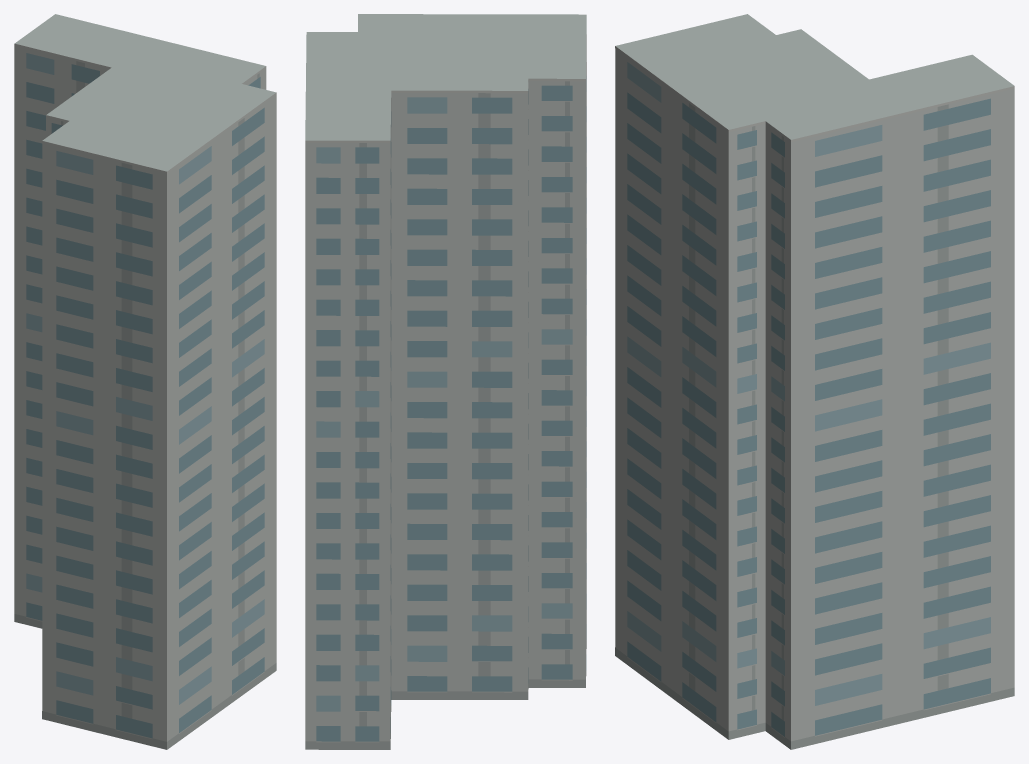
Rendered from residential-15b43ce7-ac7d-4d0b-87e9-8b9ed7bcc822.glb.
3 views of the same model, side by side, from view 1: azimuth 30°, elevation 25°; view 2: azimuth 150°, elevation 25°; view 3: azimuth 270°, elevation 25° (orthographic). The views are drawn at different scales.
Visible parts, largest first — view 1: residential-15b43ce7-ac7d-4d0b-87e9-8b9ed7bcc822.tmp; view 2: residential-15b43ce7-ac7d-4d0b-87e9-8b9ed7bcc822.tmp; view 3: residential-15b43ce7-ac7d-4d0b-87e9-8b9ed7bcc822.tmp.
Boxes of the visible parts, x1,y1,x2,y2 form: residential-15b43ce7-ac7d-4d0b-87e9-8b9ed7bcc822.tmp: (14,14,276,749); residential-15b43ce7-ac7d-4d0b-87e9-8b9ed7bcc822.tmp: (305,14,586,749); residential-15b43ce7-ac7d-4d0b-87e9-8b9ed7bcc822.tmp: (615,14,1014,749).
Size of the model in its own units: 27.91 by 63 by 37.41.
